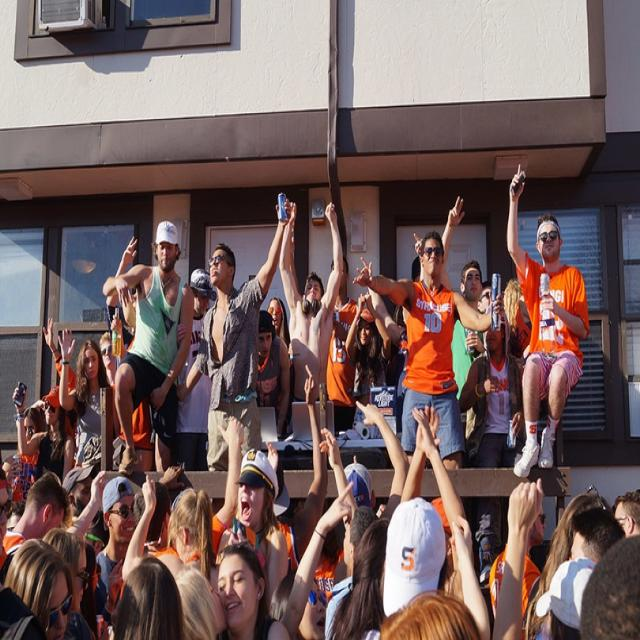body: (0, 366, 640, 640), (350, 226, 506, 472), (174, 190, 293, 472), (502, 153, 592, 486), (254, 254, 542, 354), (100, 217, 196, 478), (458, 319, 527, 551), (278, 200, 344, 403), (38, 234, 138, 364), (121, 471, 222, 595), (437, 194, 484, 440), (215, 445, 295, 572), (173, 266, 218, 472), (55, 327, 112, 482), (488, 502, 548, 640), (11, 379, 75, 489), (325, 254, 362, 442), (344, 289, 392, 425), (254, 308, 292, 441)
